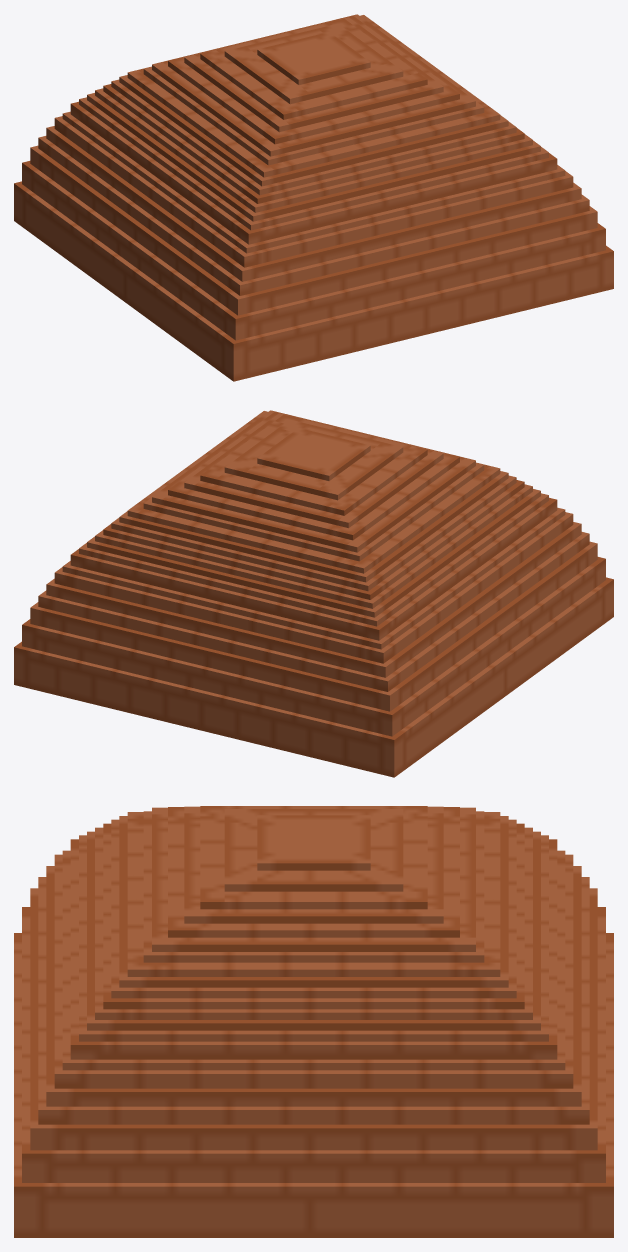
Rendered from roof_textured_orange_oval_cube.dae.
The picture shows the model from 3 angles, top to bottom: view 1: azimuth 30°, elevation 25°; view 2: azimuth 150°, elevation 25°; view 3: azimuth 270°, elevation 25°; orthographic projection. The views are drawn at different scales.
Visible parts, largest first — view 1: GameObject; view 2: GameObject; view 3: GameObject.
Part boxes in pixels (x1,y1,x2,y2): GameObject: [14, 14, 613, 381]; GameObject: [14, 410, 613, 777]; GameObject: [14, 806, 613, 1237].
Size of the model in its own units: 7.4 by 3.7 by 7.4.
Materials: 1 (1 with a texture image).
